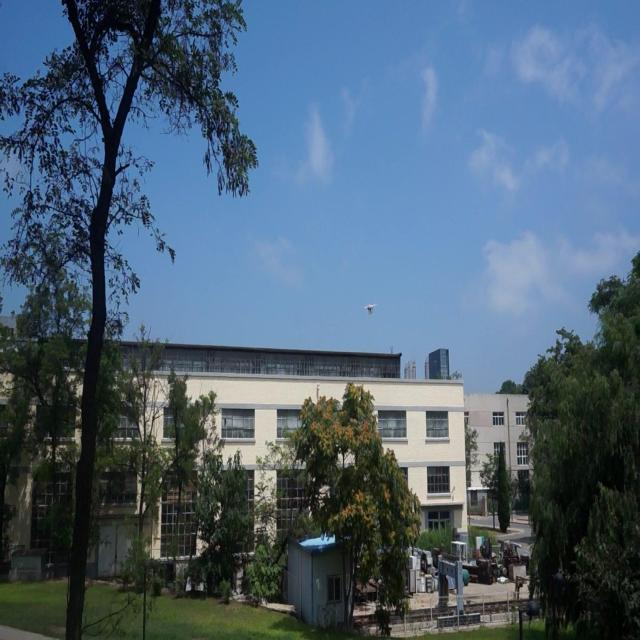drone: (363, 298, 376, 316)
